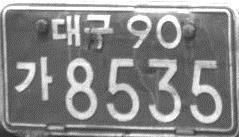0: (154, 13, 183, 50)
3: (147, 58, 181, 122)
5: (188, 59, 223, 125), (105, 58, 141, 122)
8: (64, 57, 98, 120)
9: (126, 13, 152, 49)
가: (13, 56, 54, 102)
대구_O: (49, 12, 115, 50)
